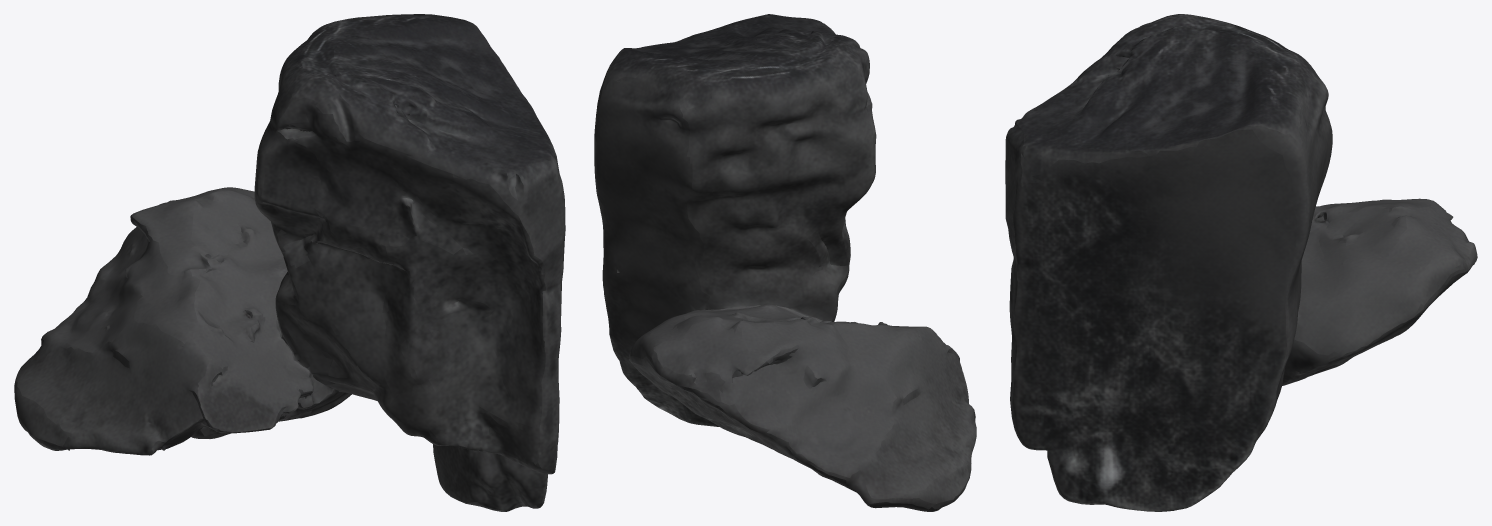
3 renders of one model, left to right at view 1: azimuth 30°, elevation 25°; view 2: azimuth 150°, elevation 25°; view 3: azimuth 270°, elevation 25°, orthographic. The views are drawn at different scales.
Parts seen in each view (by area): view 1: world; view 2: world; view 3: world.
Boxes of the visible parts, bbox=[...] form: world: bbox=[14, 14, 565, 511]; world: bbox=[594, 14, 976, 511]; world: bbox=[1005, 14, 1477, 511].
Size of the model in its own units: 1.44 by 1.5 by 1.53.
Materials: 1 (1 with a texture image).
